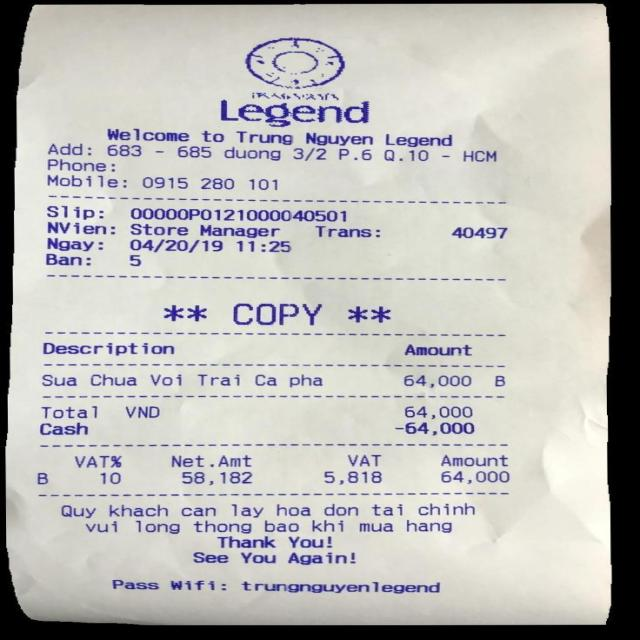Date: (129, 237, 226, 256)
Store_Name: (185, 24, 393, 128)
amount_number: (396, 402, 475, 420)
label_total: (33, 403, 174, 423)
